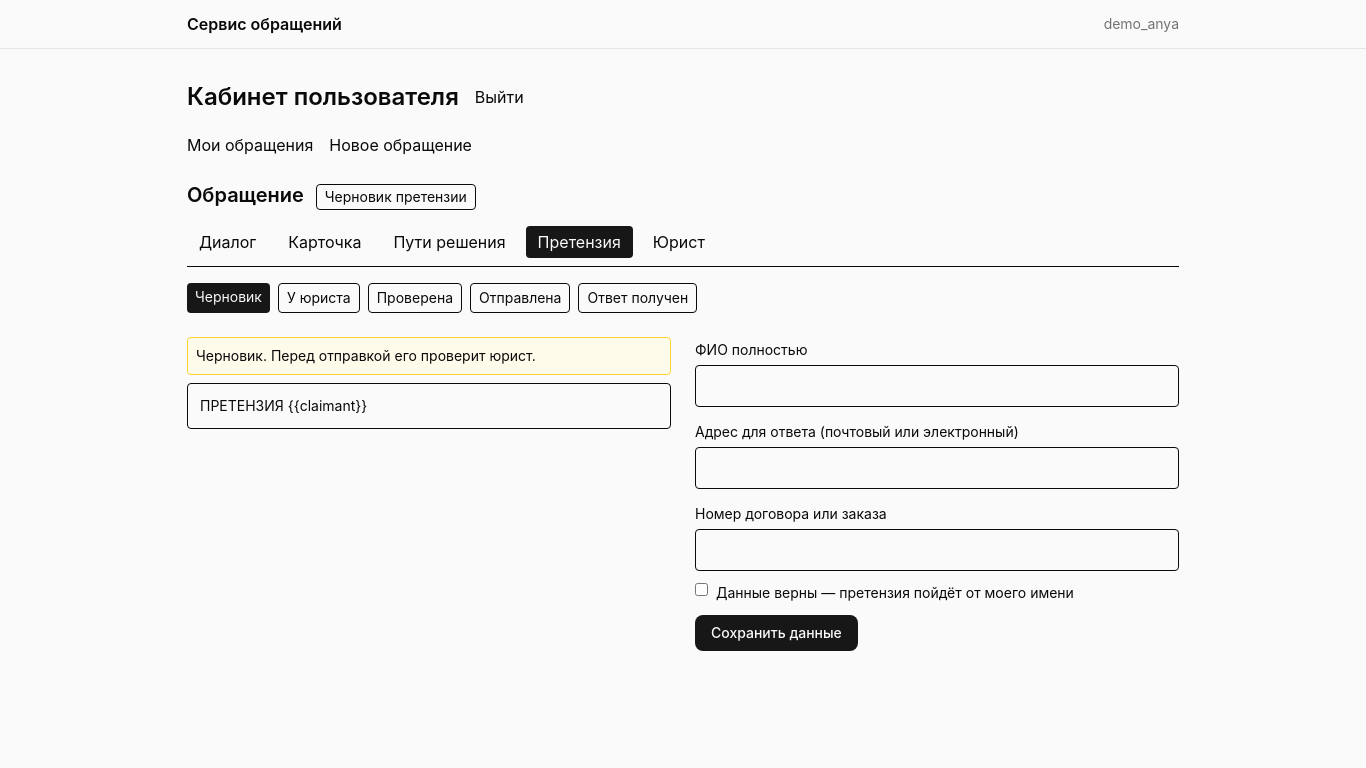
Test: F5 claim › shows form errors and keeps submit unavailable without data
This screenshot has width=1366, height=768.
Expected: the text "Черновик. Перед отправкой его проверит юрист." is shown, [187,337,671,375]
Click the button "Сохранить данные" at (776, 633), box [695,615,858,651]
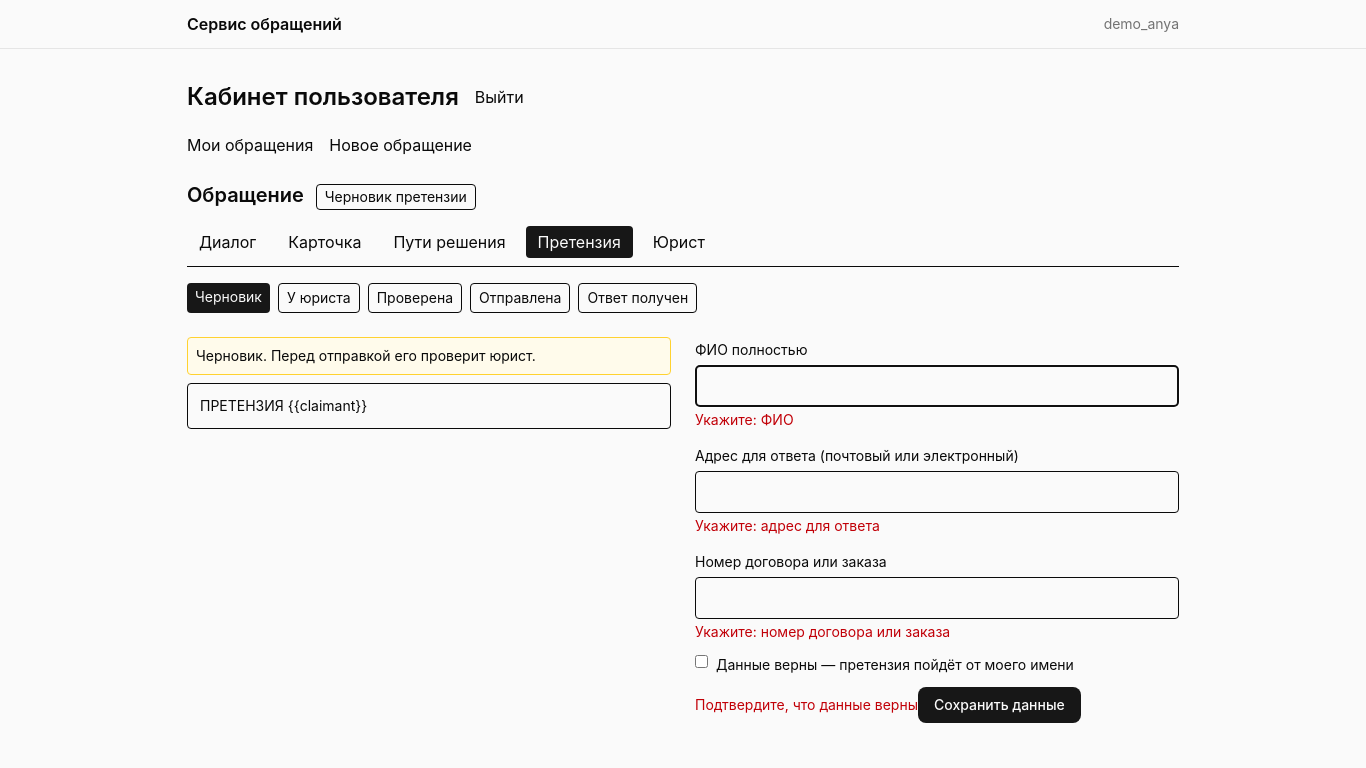
Expected: the text "Укажите: ФИО" is shown, [695,411,794,428]
Expected: the text "Подтвердите, что данные верны" is shown, [695,696,918,713]
